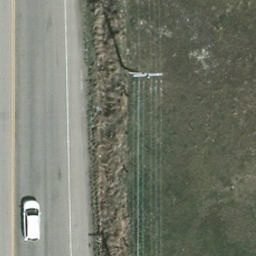car: (23, 199, 42, 242)
